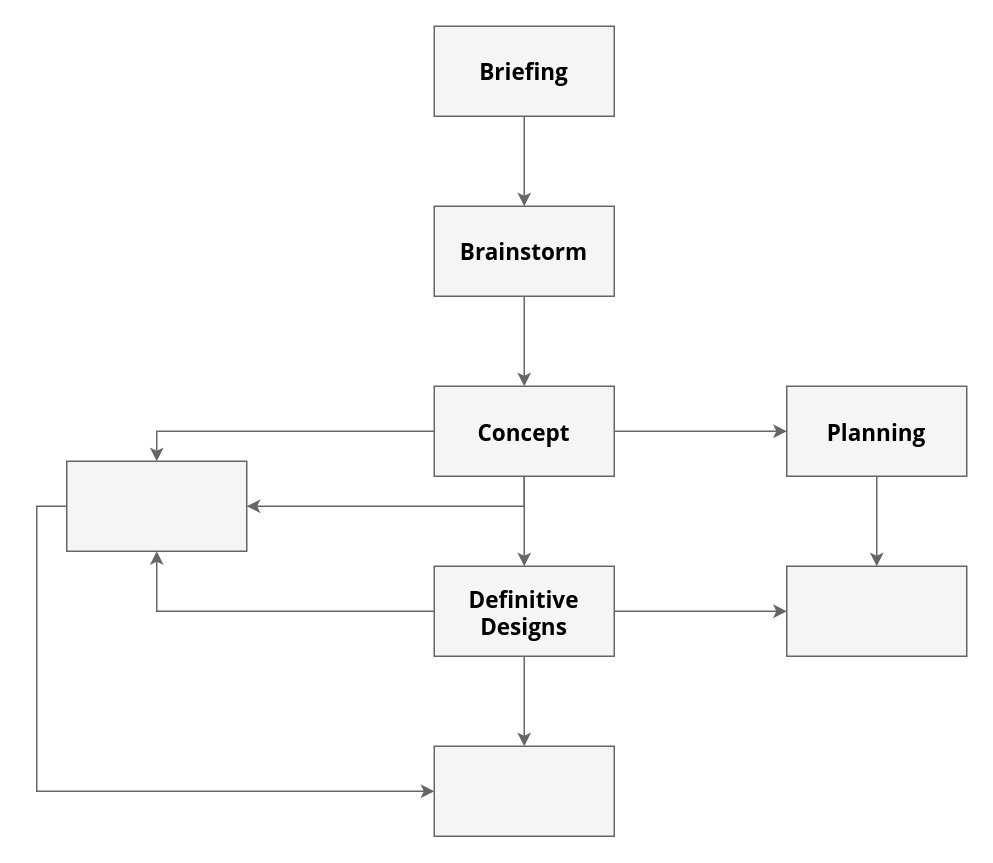
Some shapes in this 993 by 863 pixel diagram are drawn without their labels. Here are the shapes that lost their labels. From the top down, the centre of each, then its label:
the point at 156,505: prototyping & testing
the point at 876,610: Adjusted Planning
the point at 523,790: Final Release
